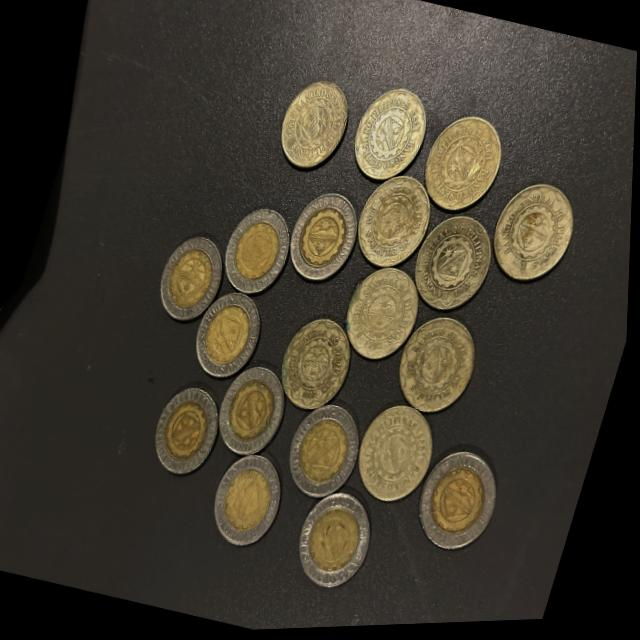10_Old_Back: (409, 448, 510, 565), (281, 187, 367, 293), (187, 286, 270, 387), (151, 232, 232, 330)
5_Old_Back: (402, 209, 503, 325), (344, 84, 435, 193)
